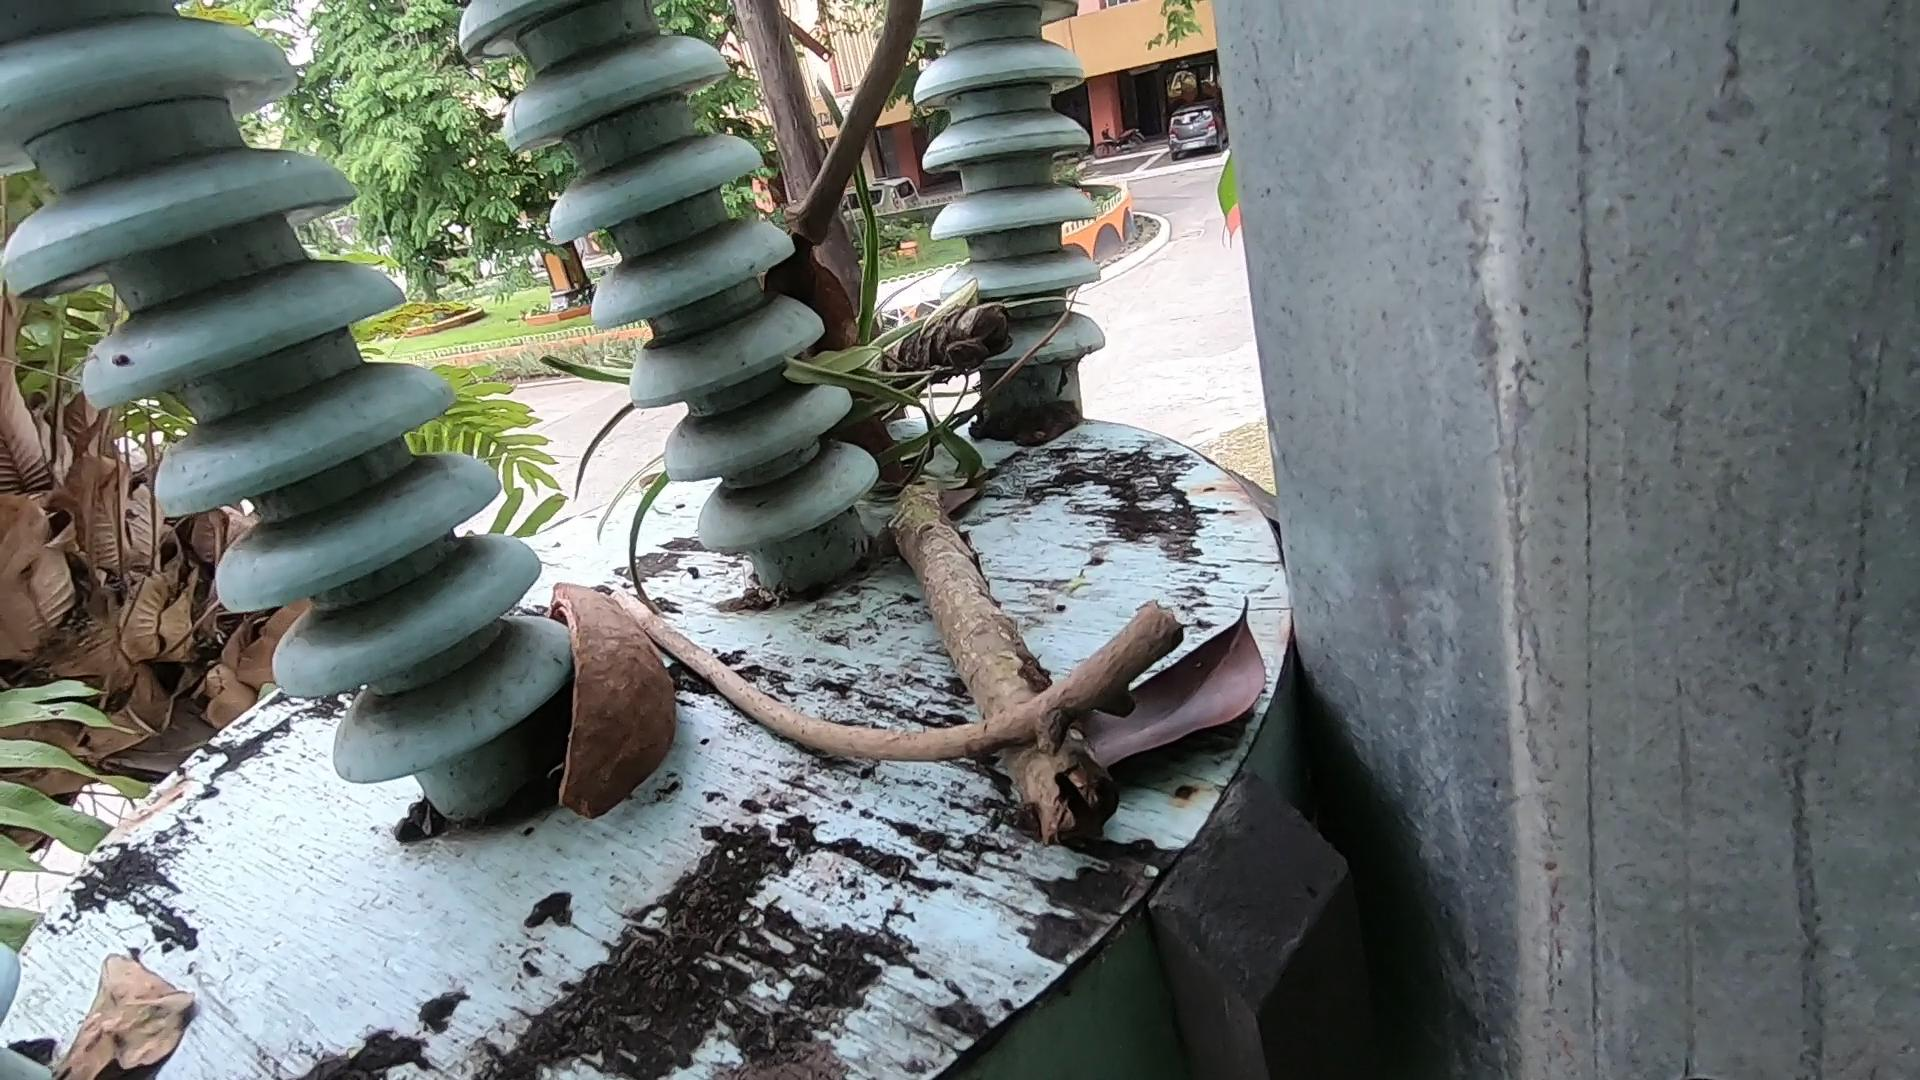branch with leaves: (822, 222, 1187, 913)
leaf: (1073, 588, 1269, 832), (70, 915, 241, 1080)
mahogany fruit: (756, 193, 949, 535), (556, 546, 684, 872)
tree branch: (633, 568, 1191, 756), (803, 1, 943, 249)
